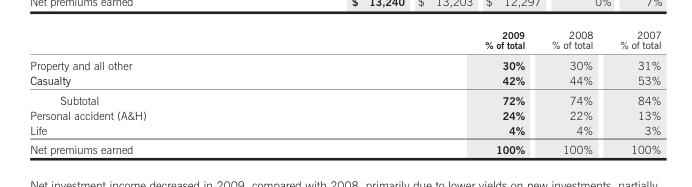table: (29, 28, 660, 155)
table column: (29, 28, 314, 155), (314, 28, 537, 155), (537, 28, 605, 155), (605, 28, 660, 155)
table column header: (29, 28, 660, 54)
table row: (29, 28, 660, 54), (29, 54, 660, 72), (29, 89, 660, 107), (29, 72, 660, 89), (29, 122, 660, 139), (29, 139, 660, 155), (29, 107, 660, 122)
